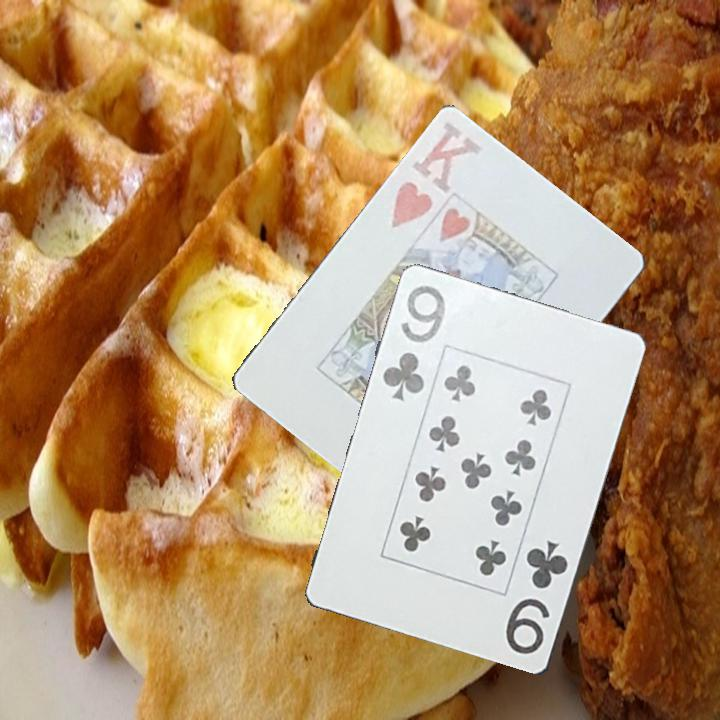9c: (379, 282, 449, 405), (502, 536, 572, 658)
Kh: (386, 118, 485, 233)
